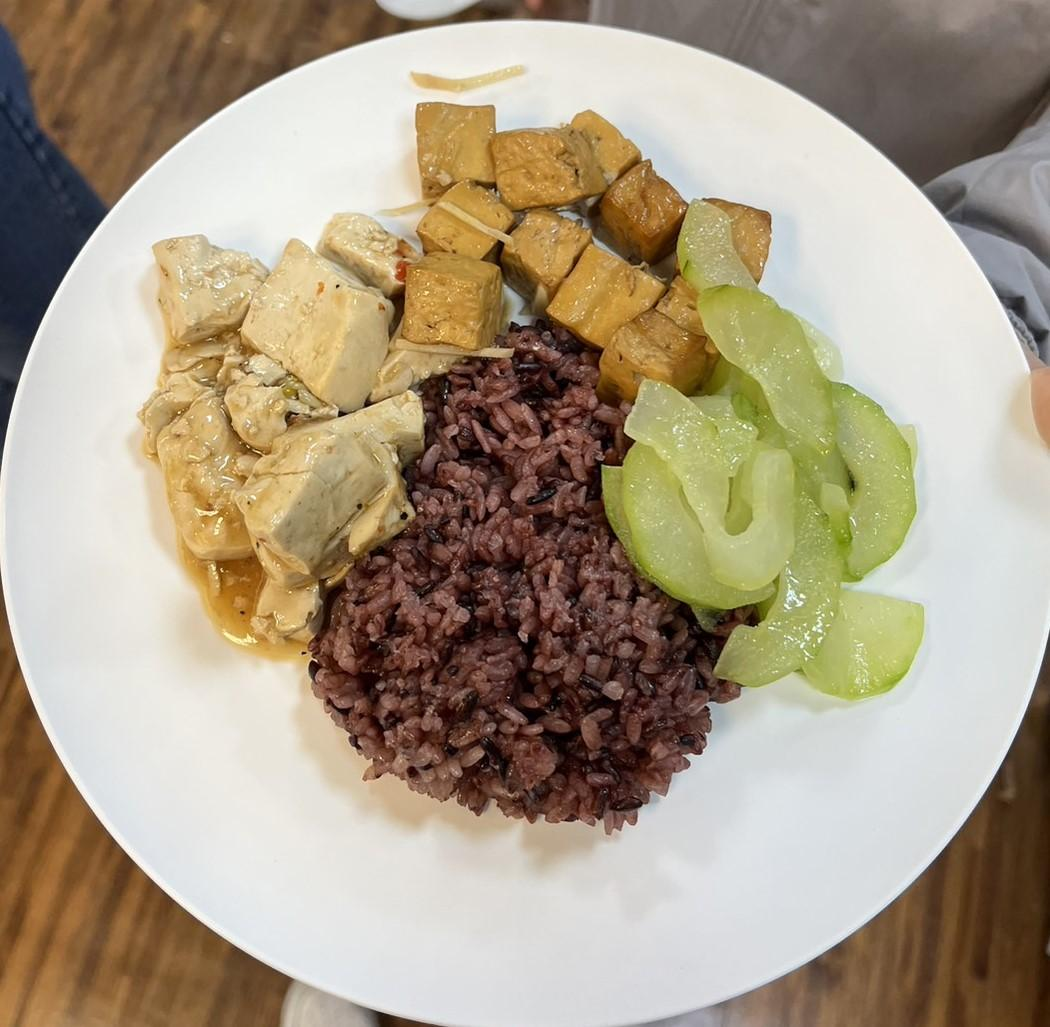big fried chicken leg: (3, 15, 1050, 1027)
braised fish: (314, 336, 730, 819)
braised fish fillet: (606, 208, 924, 699), (134, 200, 423, 647), (395, 98, 776, 393)
